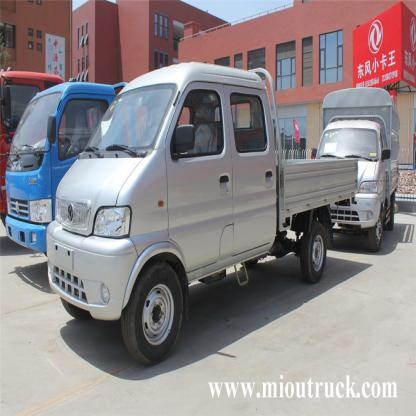normal-truck: (47, 54, 360, 322)
